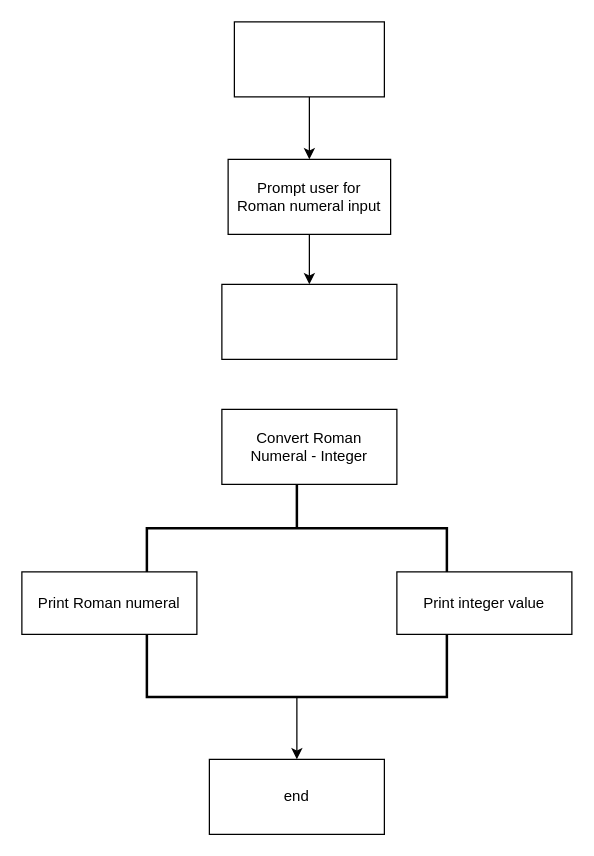
Some shapes in this 594 by 856 pixel diagram are drawn without their labels. The centre of each missing label's shape, as x and y in pixels:
Create romanType Object with input: [309,321]
Start: [308,59]
